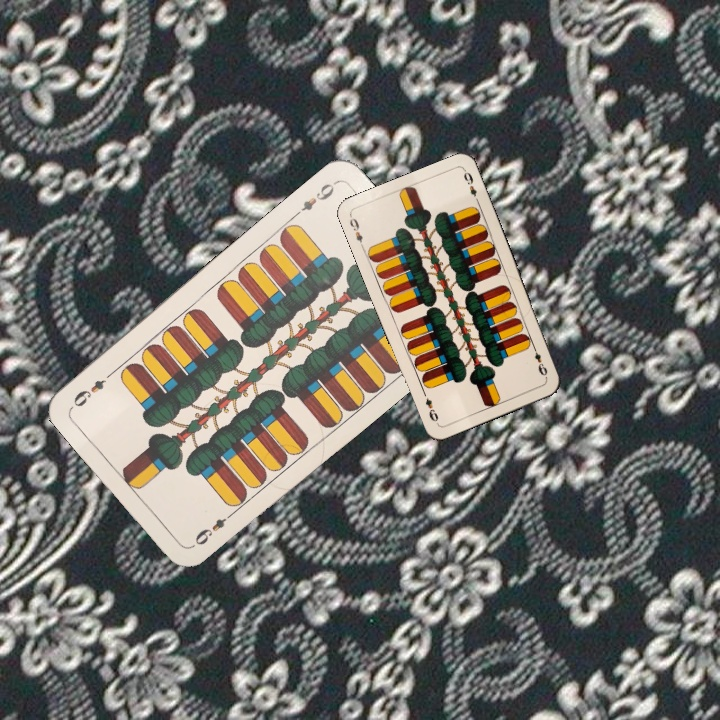E9: (289, 177, 339, 220), (187, 508, 237, 551), (345, 212, 367, 251), (529, 342, 550, 381)
